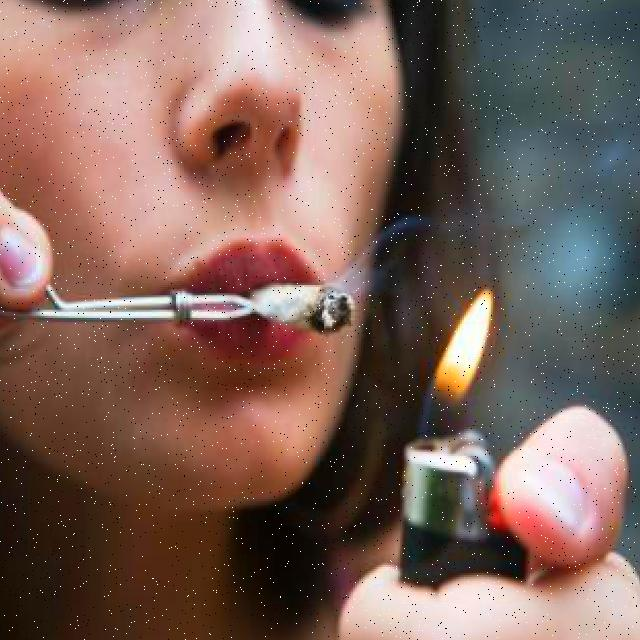fire: (425, 269, 522, 435)
smoke: (330, 194, 474, 296)
